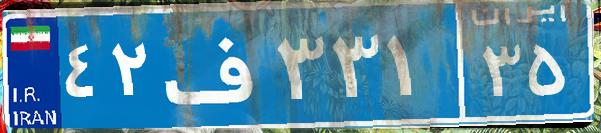1: (385, 28, 445, 110)
2: (110, 28, 158, 105)
3: (273, 28, 330, 110), (330, 28, 385, 110), (475, 38, 525, 113)
4: (57, 26, 110, 107)
5: (525, 38, 570, 115)
ف: (158, 15, 273, 115)
